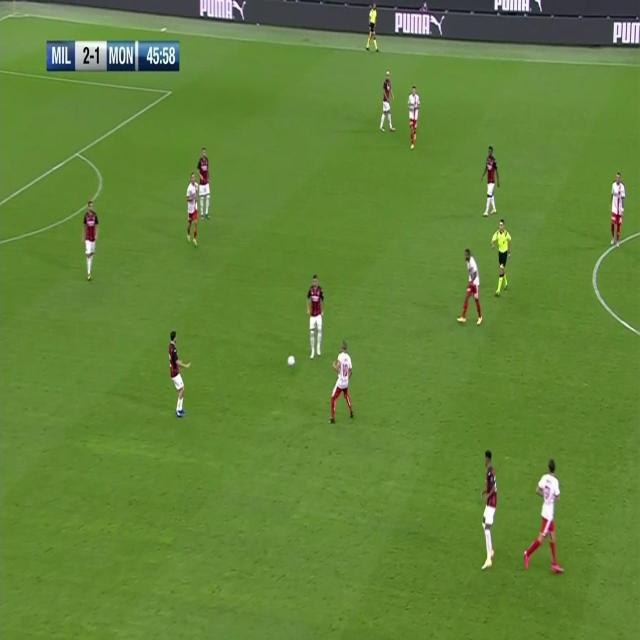ball: (286, 353, 296, 367)
player: (524, 458, 566, 578), (477, 447, 499, 572), (166, 329, 192, 418), (457, 246, 485, 326), (330, 339, 356, 424), (306, 271, 326, 359), (491, 217, 512, 296), (81, 199, 99, 283), (480, 142, 500, 217), (608, 168, 626, 249), (197, 146, 213, 220), (184, 173, 200, 247), (378, 70, 396, 134), (406, 84, 420, 151), (365, 1, 380, 53)
